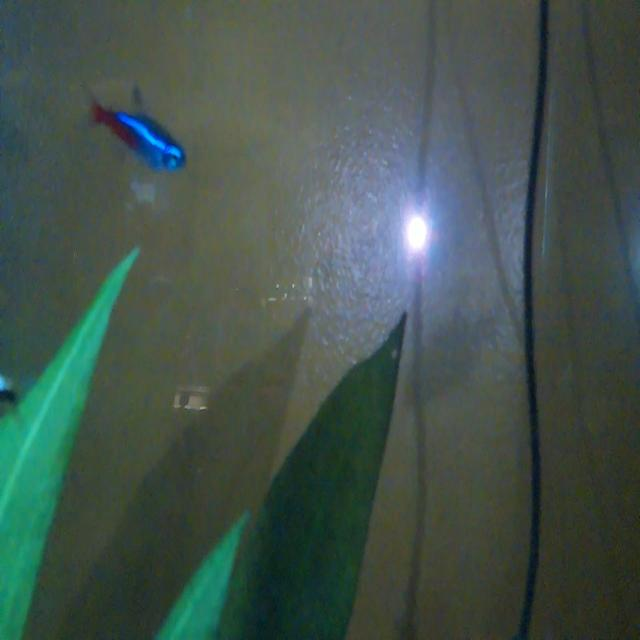fish: (86, 84, 194, 192)
